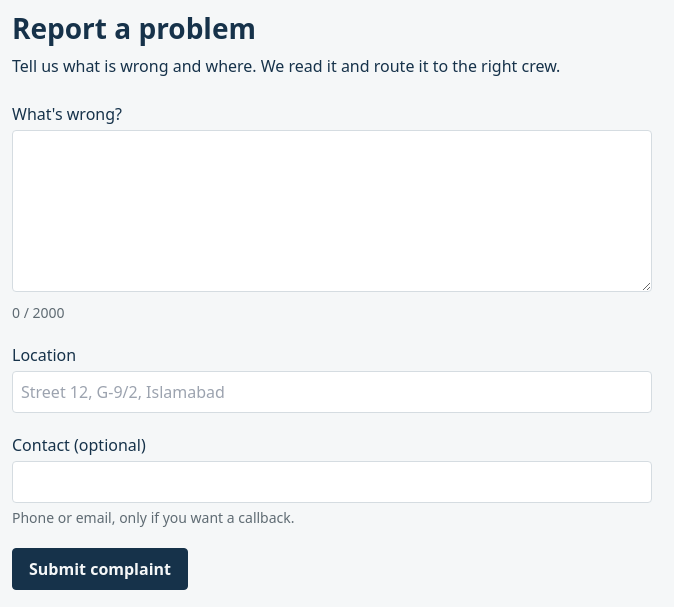
it: 2. a successful submit renders category, priority, summary and provider
The width and height of the screenshot is (674, 607).
Type "A burst pipe is flooding the whole street" into the text box labelled "What's wrong?". click: [332, 211]
box: [12,130,652,292]
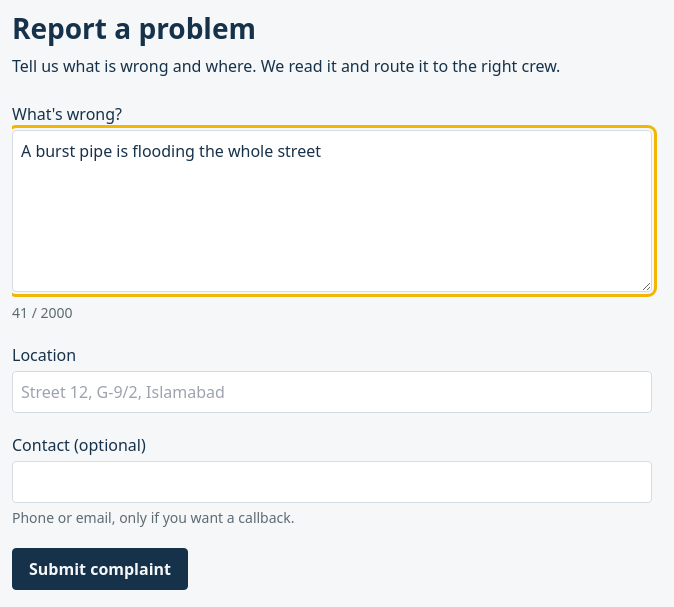
Type "Test Street 12" into the field labelled "Location". click: [332, 392]
box: [12,371,652,413]
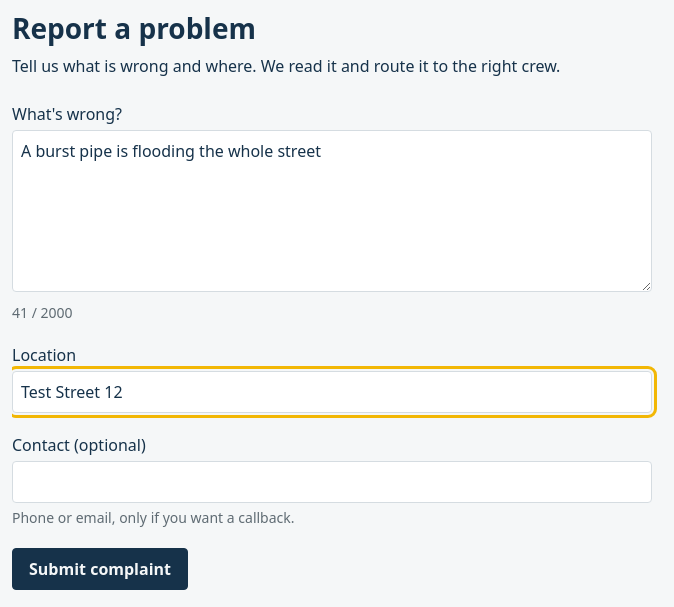
Click the button "Submit complaint". click: [100, 569]
box: [12,548,188,590]
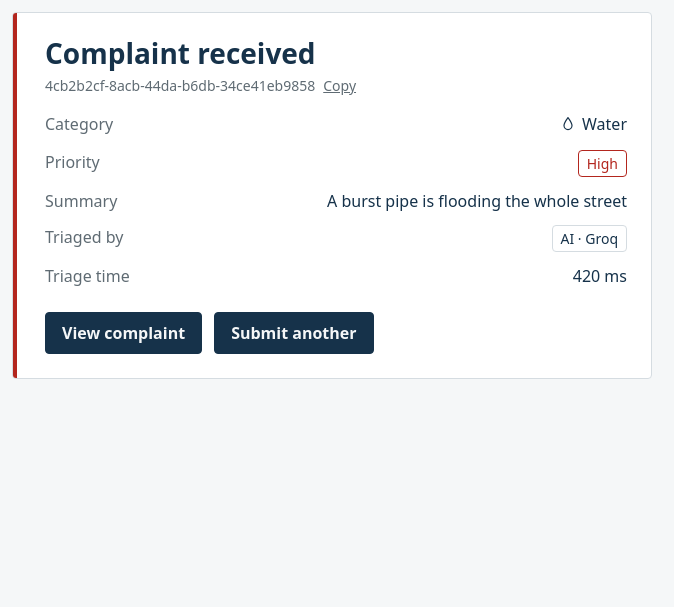
Expected: the heading "Complaint received" is shown, [45,34,316,72]
Expected: the text "Water" is shown, [560,112,627,136]
Expected: the text "High" is shown, [578,150,627,177]
